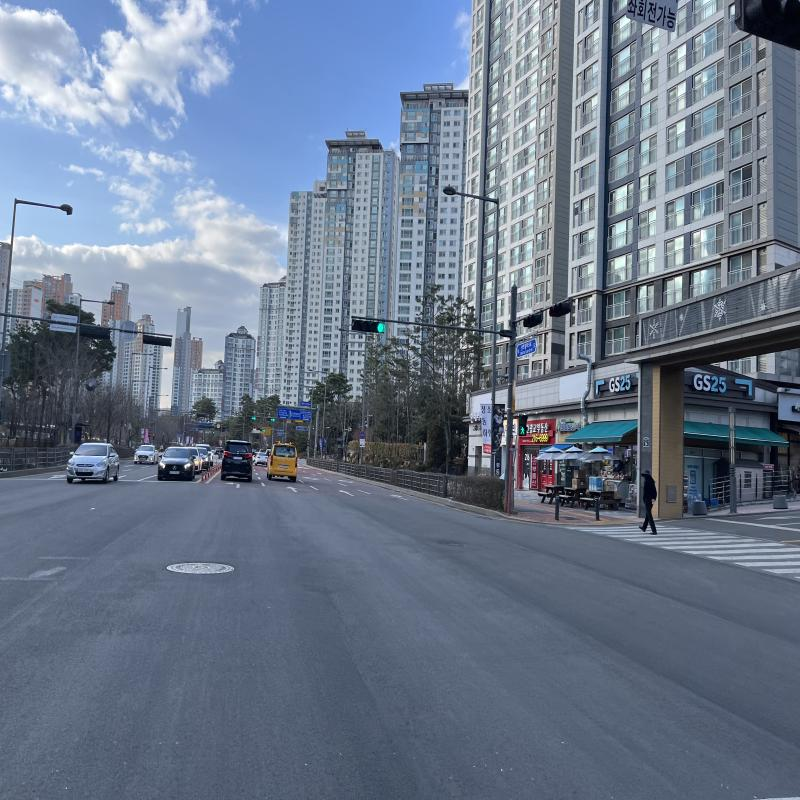green: (376, 322, 384, 333)
